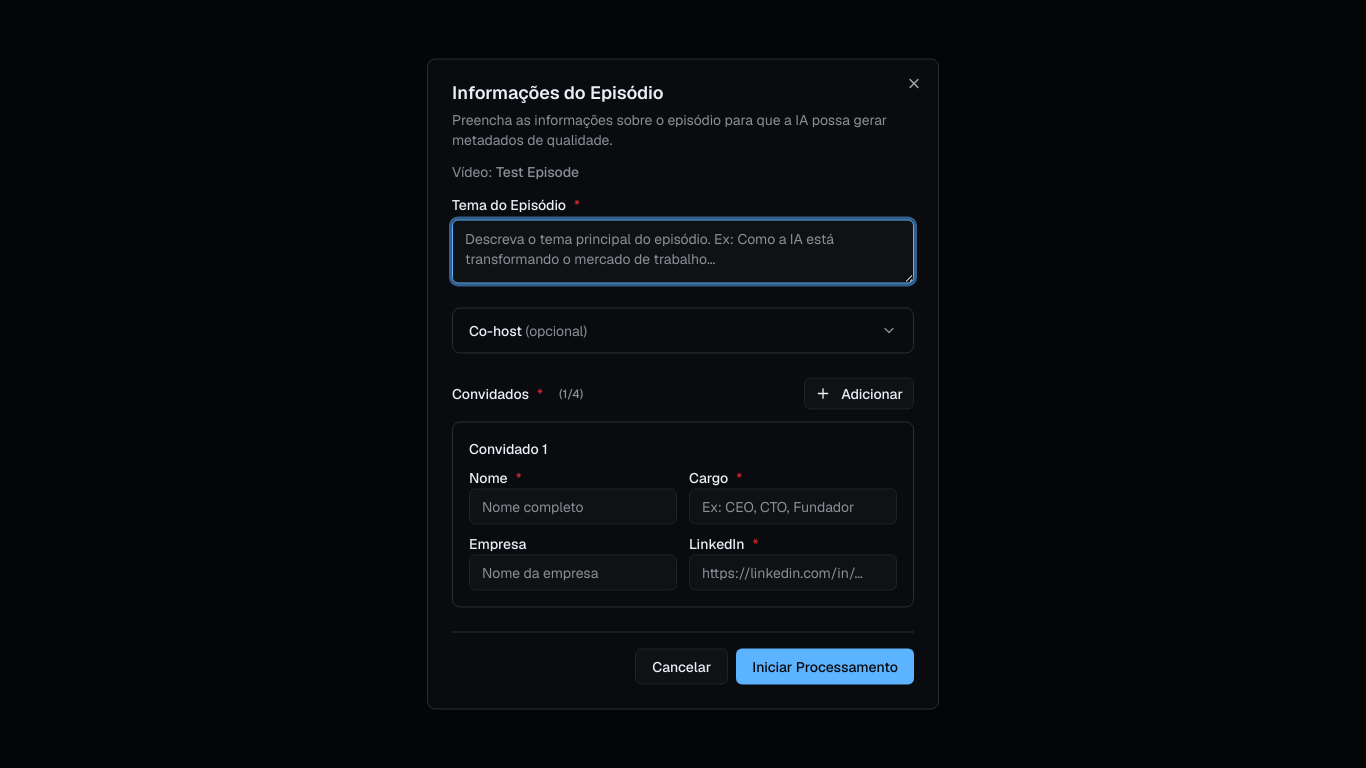
Test: ContextInputsModal › Episode mode › shows validation errors when submitting empty form
What coordinates should you click on to do the following:
click the button "Iniciar Processamento"
I would click on:
 (825, 666)
Its box is [736,648,914,684].
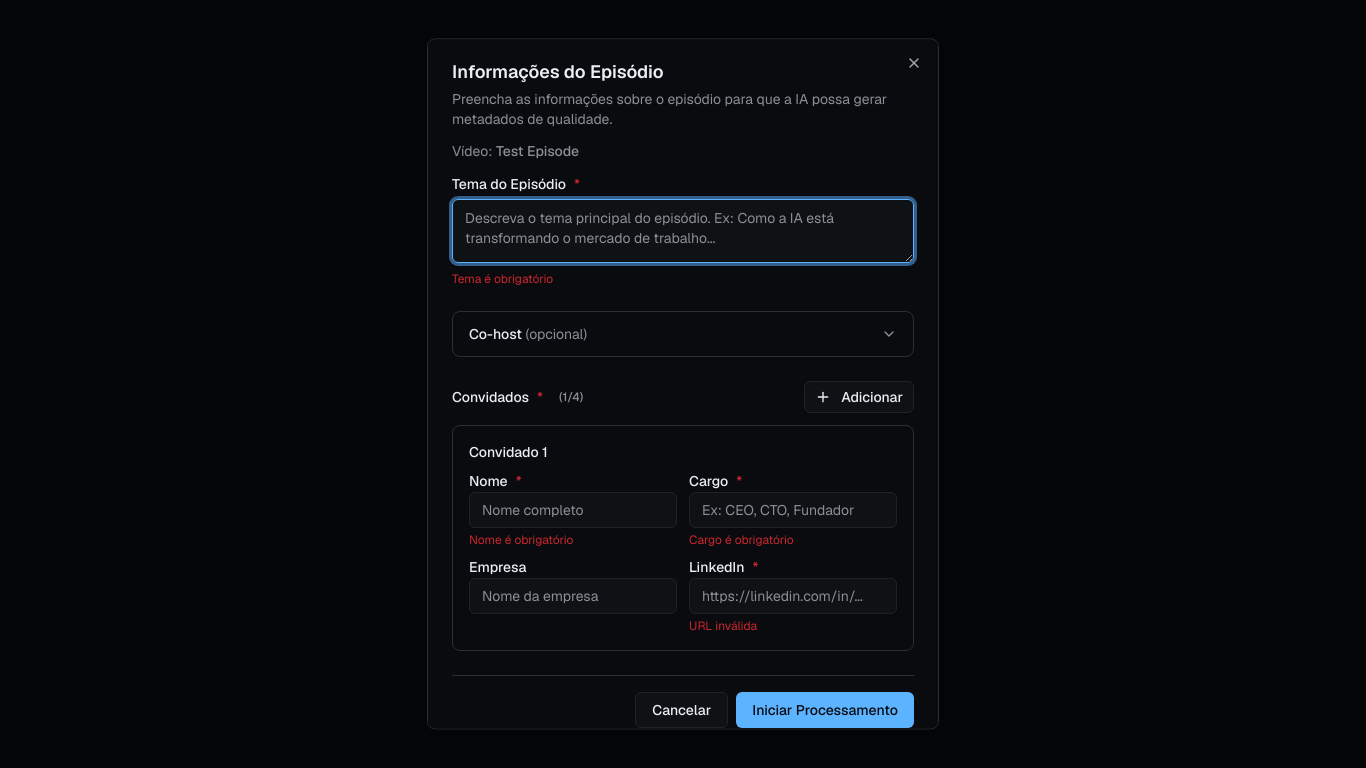
Now the text "Tema é obrigatório" is shown, box [452,271,553,287]
